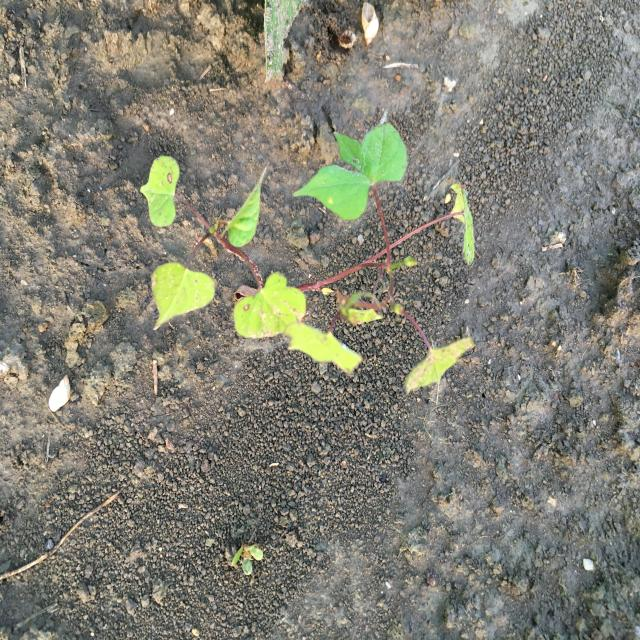MorningGlory: (138, 120, 477, 394)
